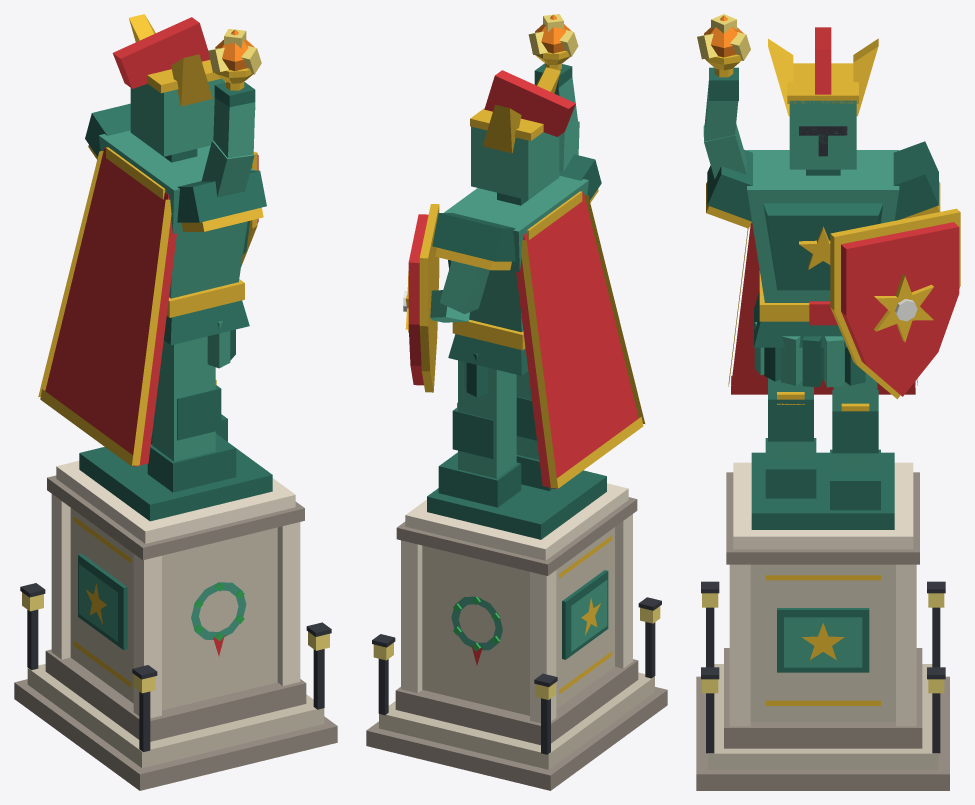
The model's file is statue.glb.
3 renders of one model, left to right at view 1: azimuth 30°, elevation 25°; view 2: azimuth 150°, elevation 25°; view 3: azimuth 270°, elevation 25°, orthographic. The views are drawn at different scales.
Visible parts, largest first — view 1: Body; view 2: Body; view 3: Body.
Part boxes in pixels (<box>): Body: <box>14,14,337,790</box>; Body: <box>366,14,667,790</box>; Body: <box>696,14,960,790</box>.
Bounding box in the file's own units: 1 × 3.5 × 1.15.
